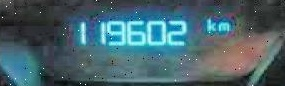0: (144, 18, 165, 44)
1: (73, 19, 87, 44), (92, 19, 103, 44)
2: (165, 18, 185, 44)
6: (124, 18, 144, 44)
9: (104, 18, 124, 44)
X: (204, 16, 215, 31), (215, 21, 229, 31)
